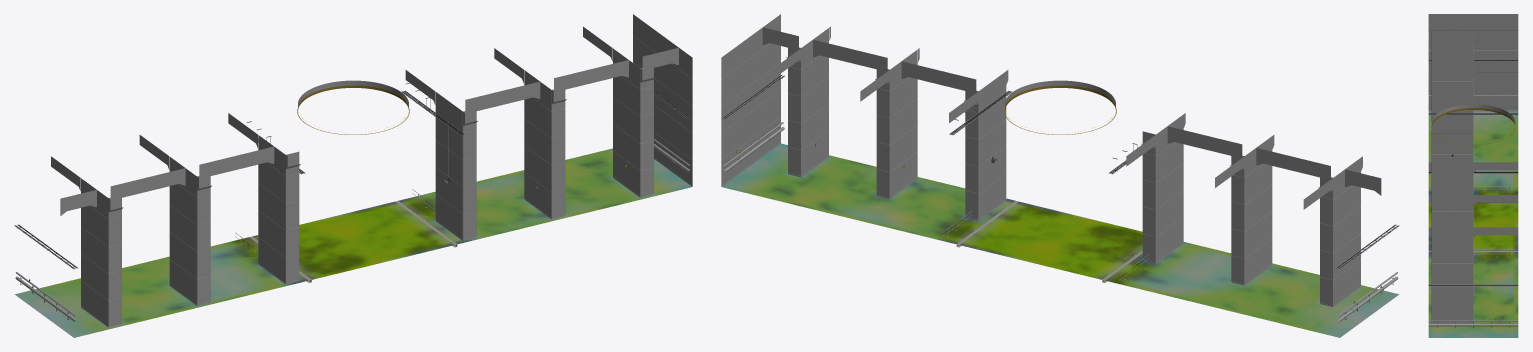
Rendered from cistern_bay_opening.glb.
3 views of the same model, side by side, from view 1: azimuth 30°, elevation 25°; view 2: azimuth 150°, elevation 25°; view 3: azimuth 270°, elevation 25° (orthographic). The views are drawn at different scales.
Visible parts, largest first — view 1: CIS_Shell, CIS_Floor, CIS_Galv, CIS_Steel; view 2: CIS_Shell, CIS_Floor, CIS_Galv, CIS_Steel; view 3: CIS_Shell, CIS_Floor, CIS_Galv, CIS_Steel.
Boxes of the visible parts, <box> form: CIS_Shell: <box>51,14,692,327</box>; CIS_Floor: <box>15,148,691,337</box>; CIS_Galv: <box>14,90,692,321</box>; CIS_Steel: <box>15,82,691,319</box>; CIS_Shell: <box>721,14,1381,306</box>; CIS_Floor: <box>722,143,1398,337</box>; CIS_Galv: <box>721,75,1399,321</box>; CIS_Steel: <box>722,75,1398,319</box>; CIS_Shell: <box>1428,14,1518,323</box>; CIS_Floor: <box>1428,111,1518,337</box>; CIS_Galv: <box>1428,59,1518,326</box>; CIS_Steel: <box>1428,60,1518,327</box>.
Bounding box in the file's own units: 90.03 × 19.35 × 15.24.
